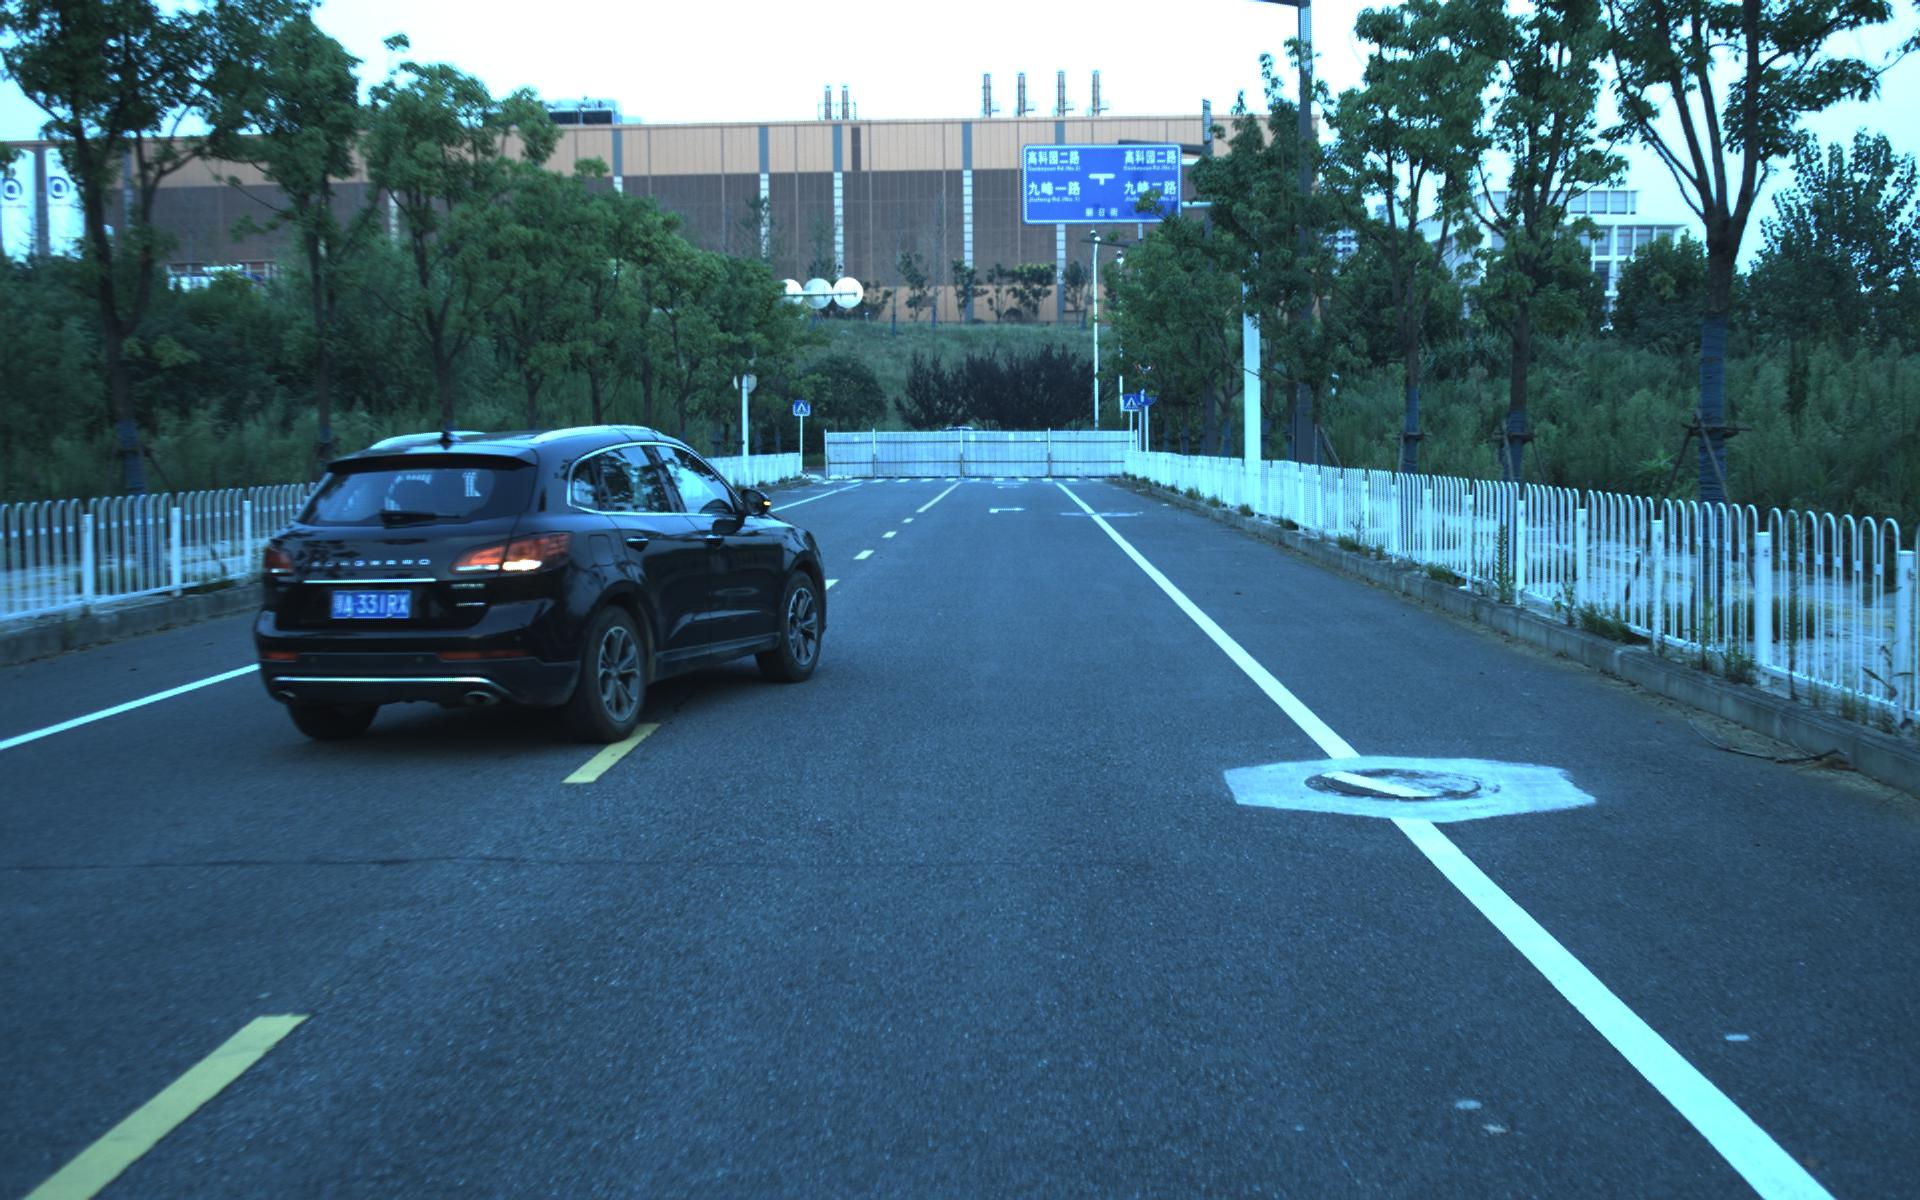Car: (225, 411, 829, 762)
